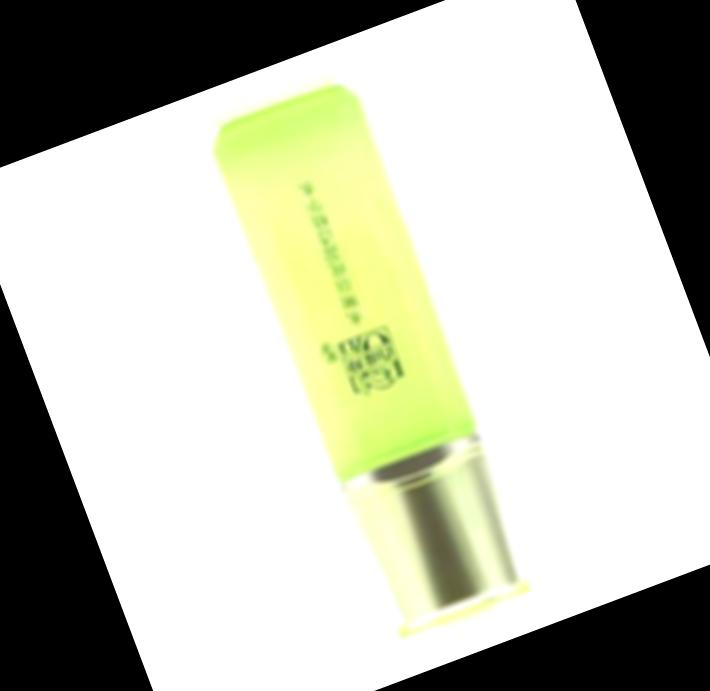cosmetic: (205, 90, 540, 647)
